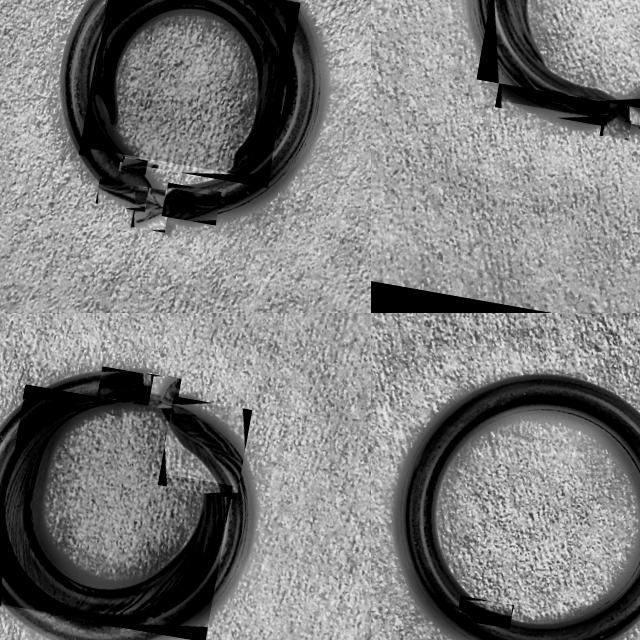切割缺陷: (499, 59, 610, 116), (168, 403, 243, 486), (165, 189, 218, 220), (100, 371, 150, 402), (459, 600, 511, 625), (98, 185, 147, 207)
挤压缺陷: (135, 188, 166, 229), (605, 92, 629, 139), (144, 378, 177, 407)
裂纹: (4, 403, 225, 625), (93, 0, 286, 173), (495, 0, 618, 101), (121, 162, 147, 168)
